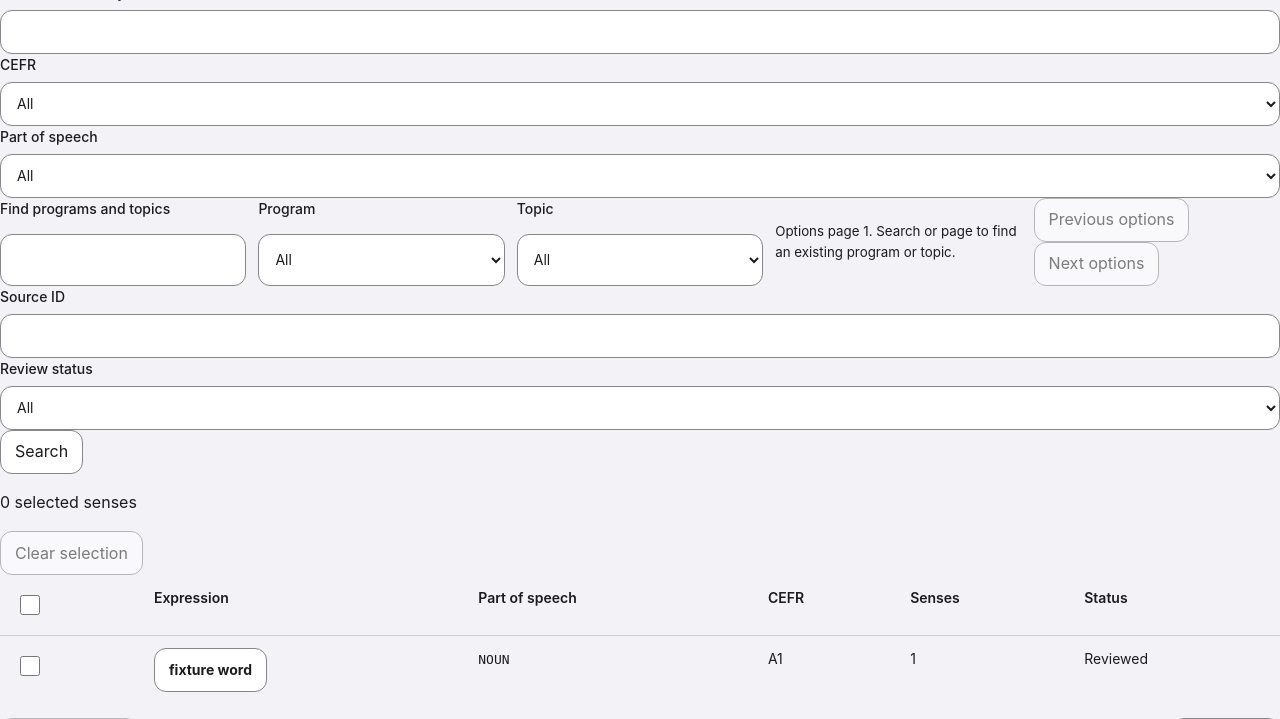
Test: vocabulary workspace › shows sense, pronunciation and immutable source provenance
The image size is (1280, 719).
(page scrolled)
Click the button "fixture word".
click(210, 670)  # box x1=154 y1=648 x2=267 y2=692
(page scrolled)
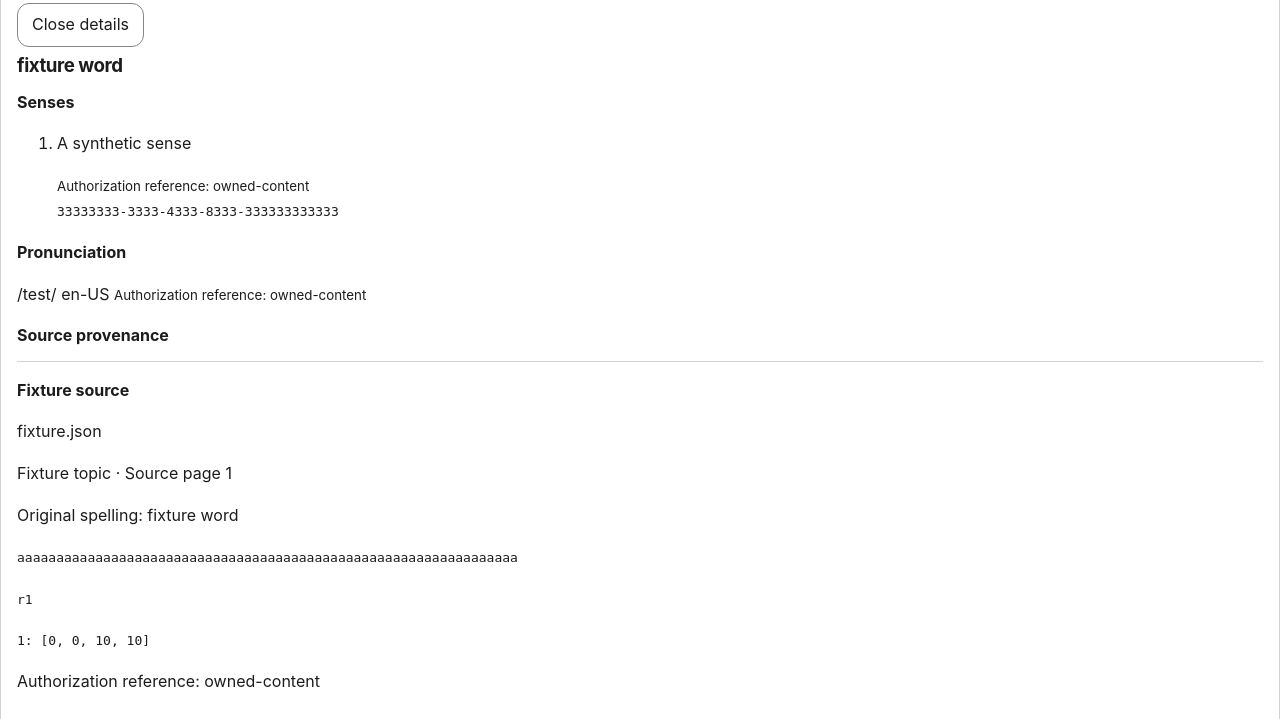
Now the text "/test/" is shown, box x1=17 y1=284 x2=57 y2=304
Now the text "A synthetic sense" is shown, box x1=57 y1=133 x2=191 y2=153
Now the text "fixture.json" is shown, box x1=17 y1=421 x2=102 y2=441
